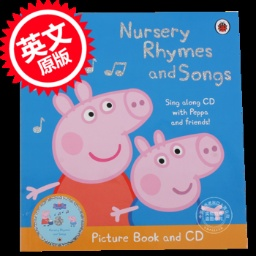Peppa: (25, 79, 153, 227)
